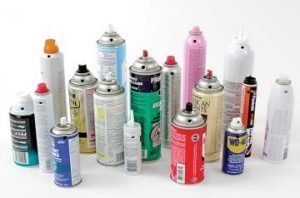Aerosol_cans: (128, 47, 163, 161), (95, 69, 128, 167), (170, 100, 208, 185), (191, 68, 224, 162), (67, 62, 99, 154), (7, 89, 41, 169), (49, 116, 85, 189), (39, 36, 69, 123), (222, 116, 247, 177)
